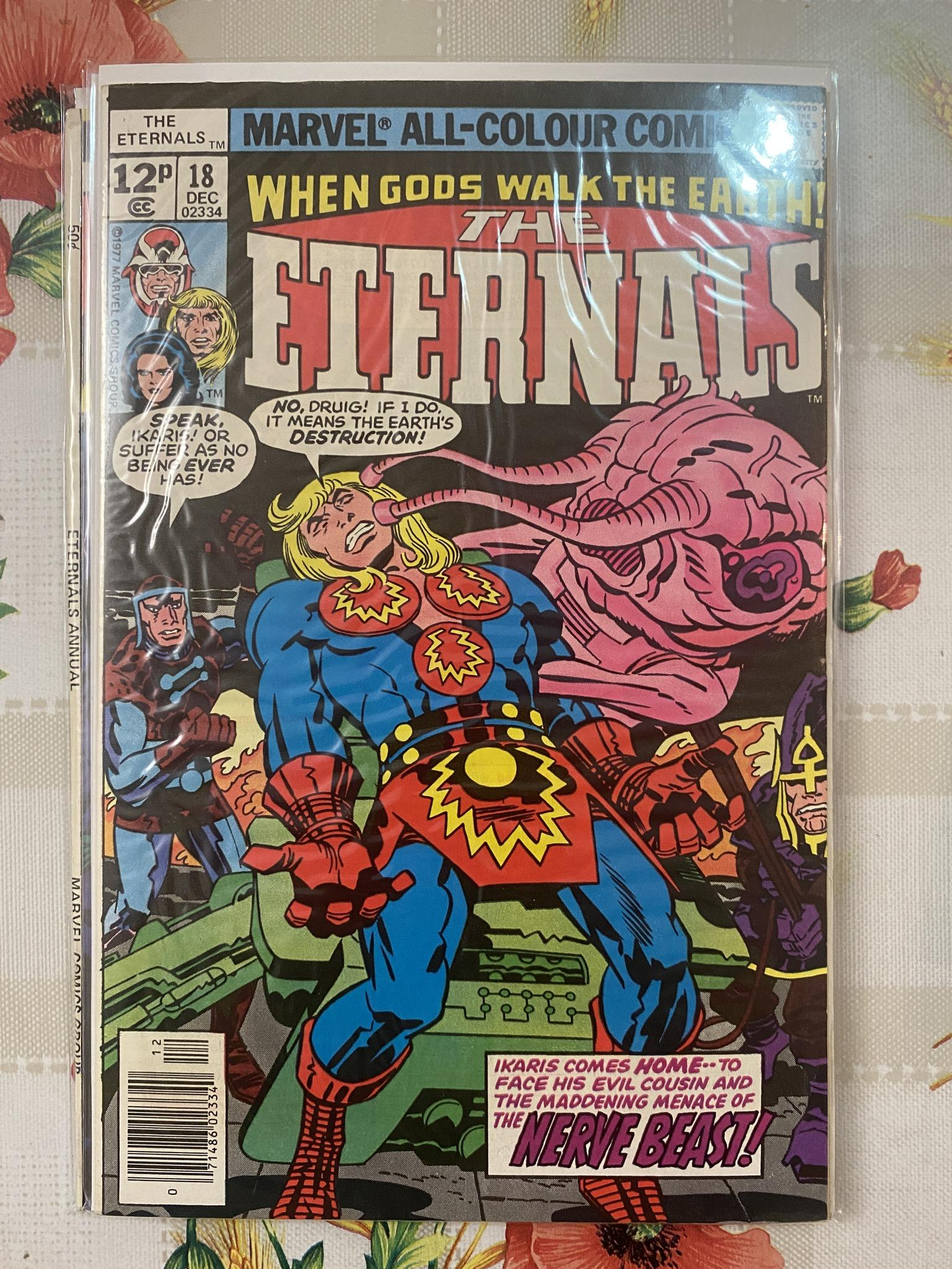comic: (83, 65, 831, 1223)
